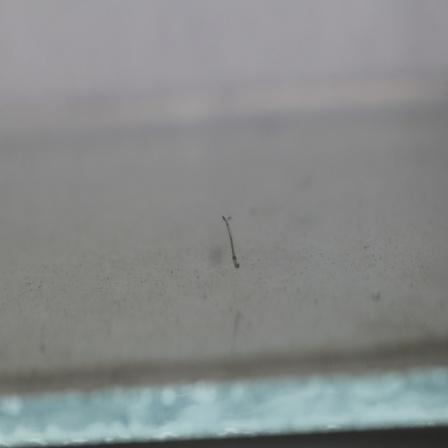Jentik-Nyamuk: (220, 211, 245, 272)
